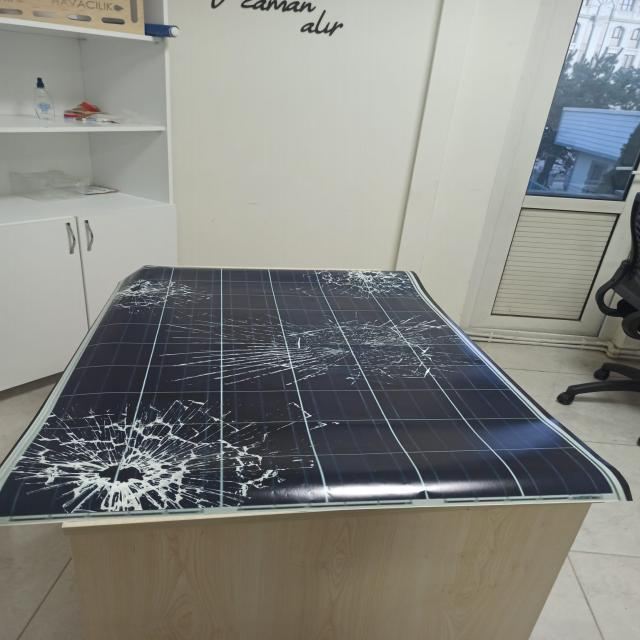faulty: (0, 264, 640, 518)
